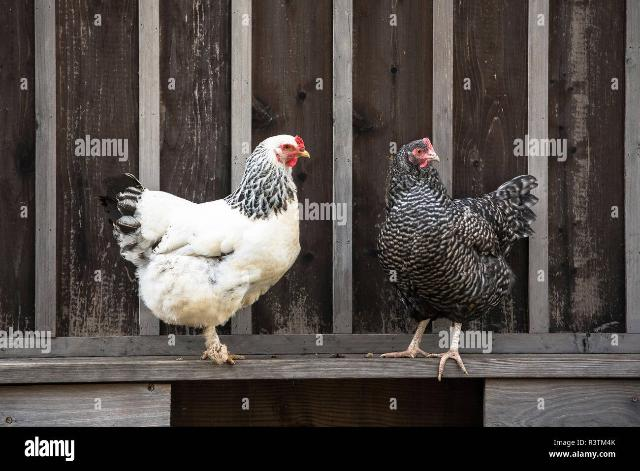Chicken: (97, 133, 310, 366), (375, 135, 540, 377)
